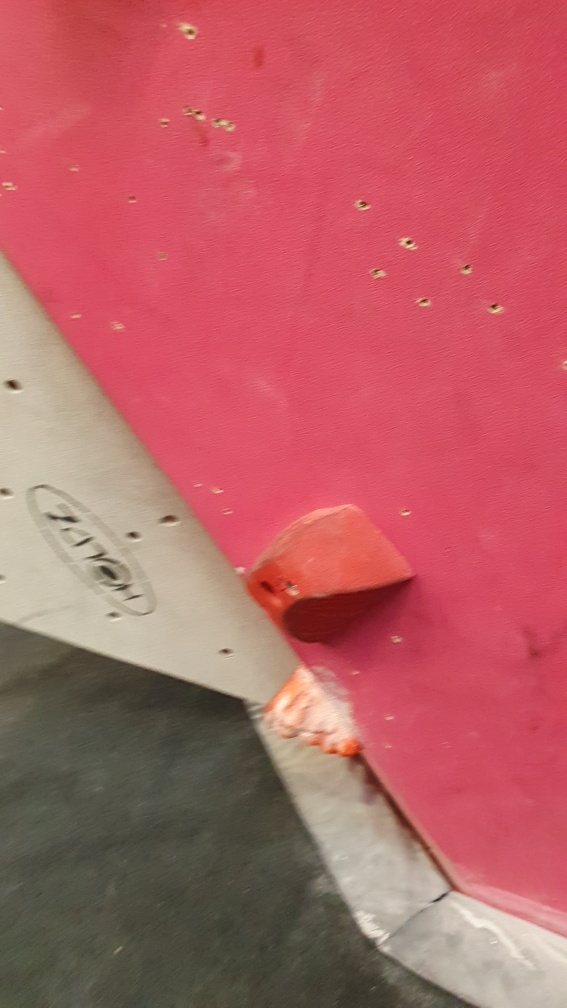Jug: (256, 660, 367, 766)
Pinch: (236, 496, 420, 654)
